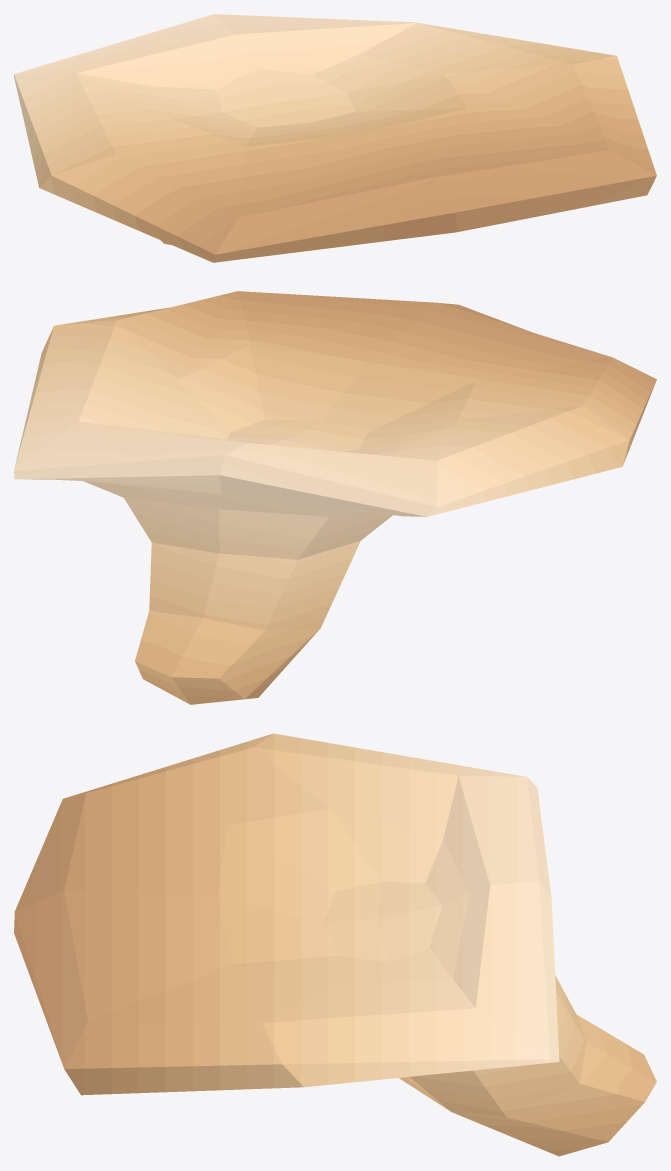
File: Oyster_Small.glb
The picture shows the model from 3 angles, top to bottom: view 1: azimuth 30°, elevation 25°; view 2: azimuth 150°, elevation 25°; view 3: azimuth 270°, elevation 25°; orthographic projection. The views are drawn at different scales.
Visible parts, largest first — view 1: Cube.002; view 2: Cube.002; view 3: Cube.002.
Part boxes in pixels (bbox=[...]): Cube.002: bbox=[14, 14, 656, 262]; Cube.002: bbox=[14, 291, 656, 704]; Cube.002: bbox=[14, 733, 656, 1156].
Bounding box in the file's own units: 4.23 × 1.77 × 3.72.
Materials: 1 (1 with a texture image).
